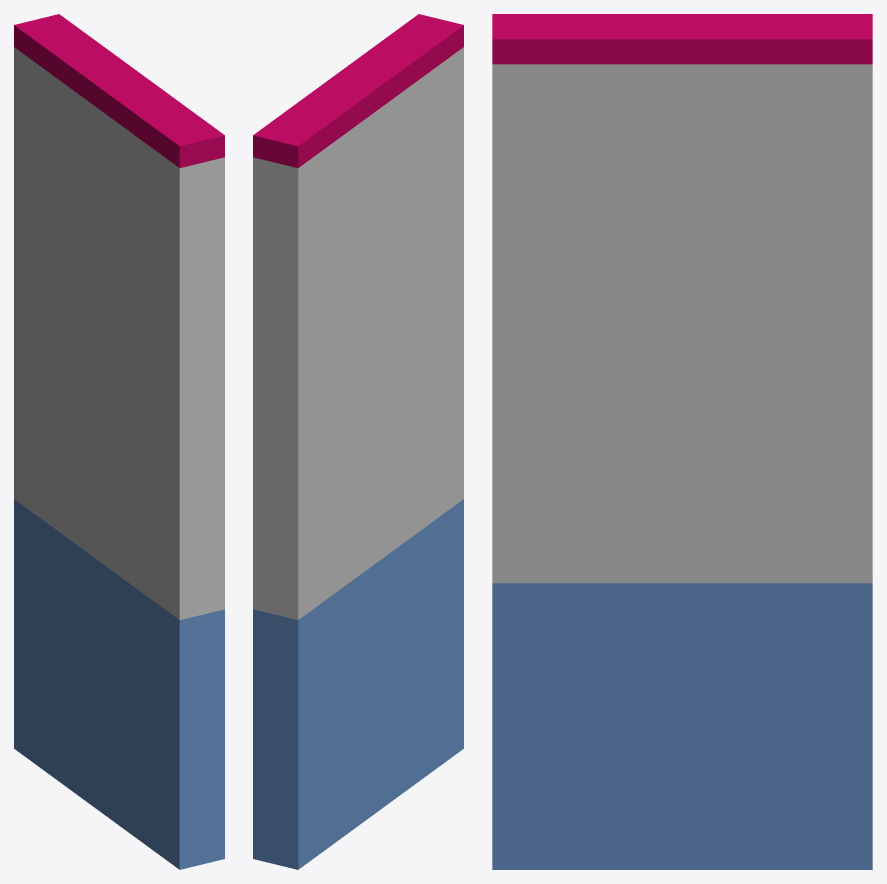
The model's file is door one third.fbx.
The picture shows the model from 3 angles, left to right: view 1: azimuth 30°, elevation 25°; view 2: azimuth 150°, elevation 25°; view 3: azimuth 270°, elevation 25°; orthographic projection. The views are drawn at different scales.
Visible parts, largest first — view 1: Cube; view 2: Cube; view 3: Cube.
Boxes of the visible parts, <box> form: Cube: <box>14,14,224,869</box>; Cube: <box>253,14,463,869</box>; Cube: <box>492,14,872,869</box>.
Size of the model in its own units: 31.46 by 482 by 200.
